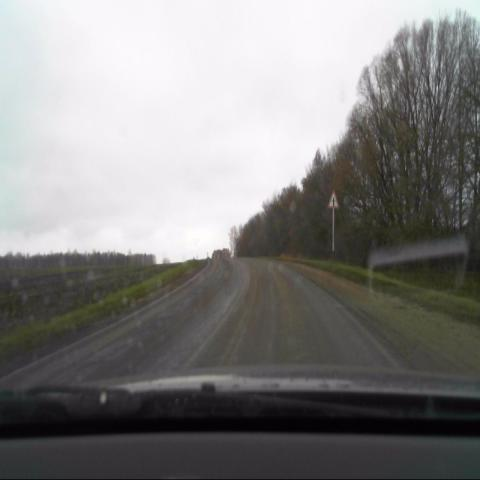2_3: (327, 188, 340, 211)
